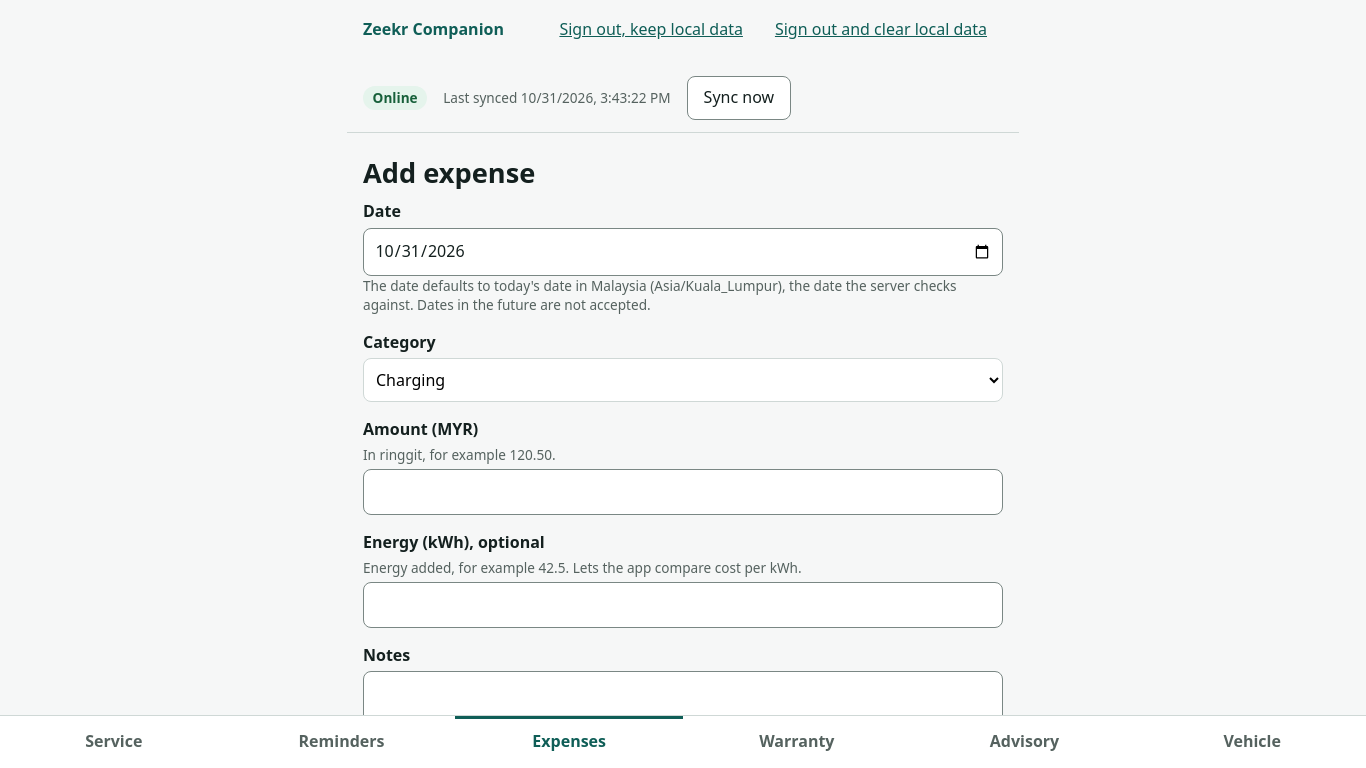
Test: AC-30 / AC-32 / AC-38: create and edit › defaults the date to the Malaysia date, parses RM input to sen and sends one POST
Expected: the date field labelled "Date" holds "2026-10-31", [363,228,1003,276]
Select "Insurance" in the dropdown labelled "Category" at (683, 380), box [363,358,1003,402]
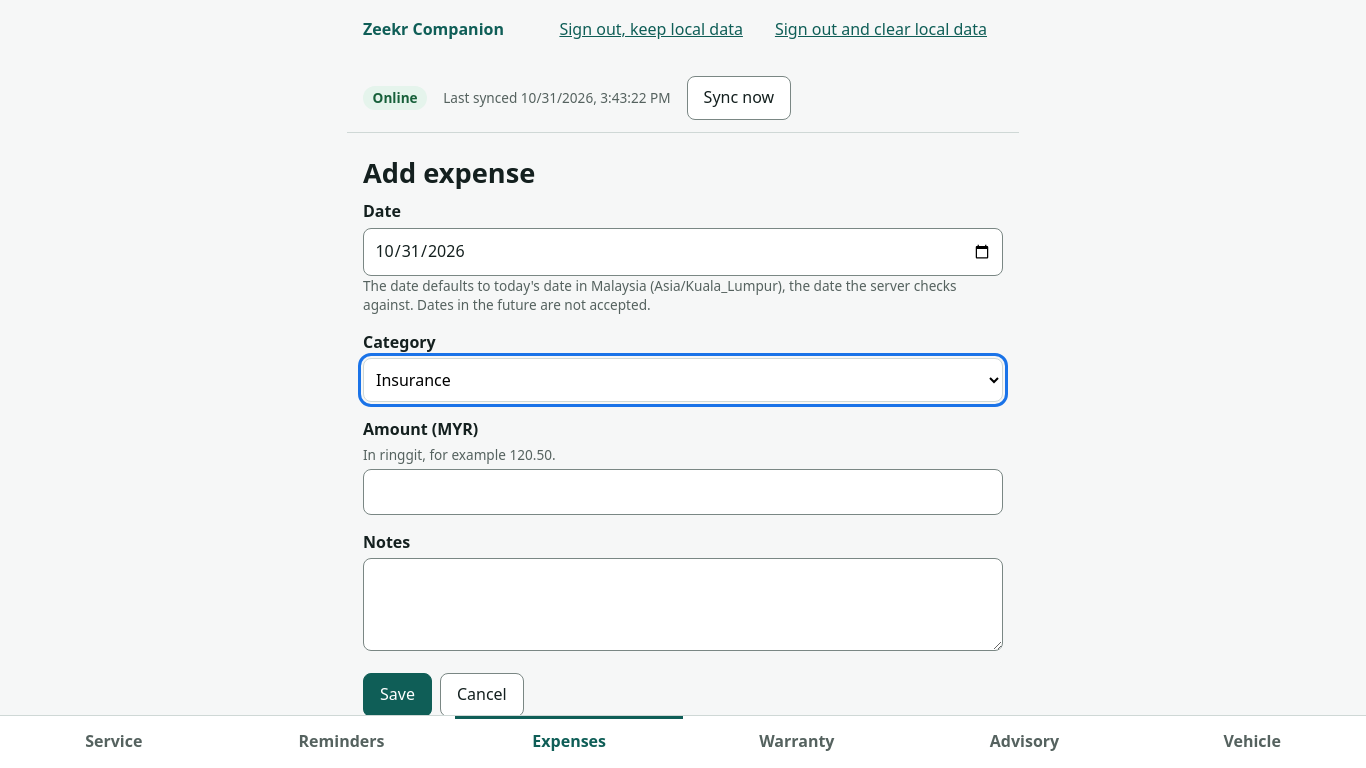
Type "RM 1,234.50" into the field labelled "Amount (MYR)" at (683, 492), box [363,469,1003,515]
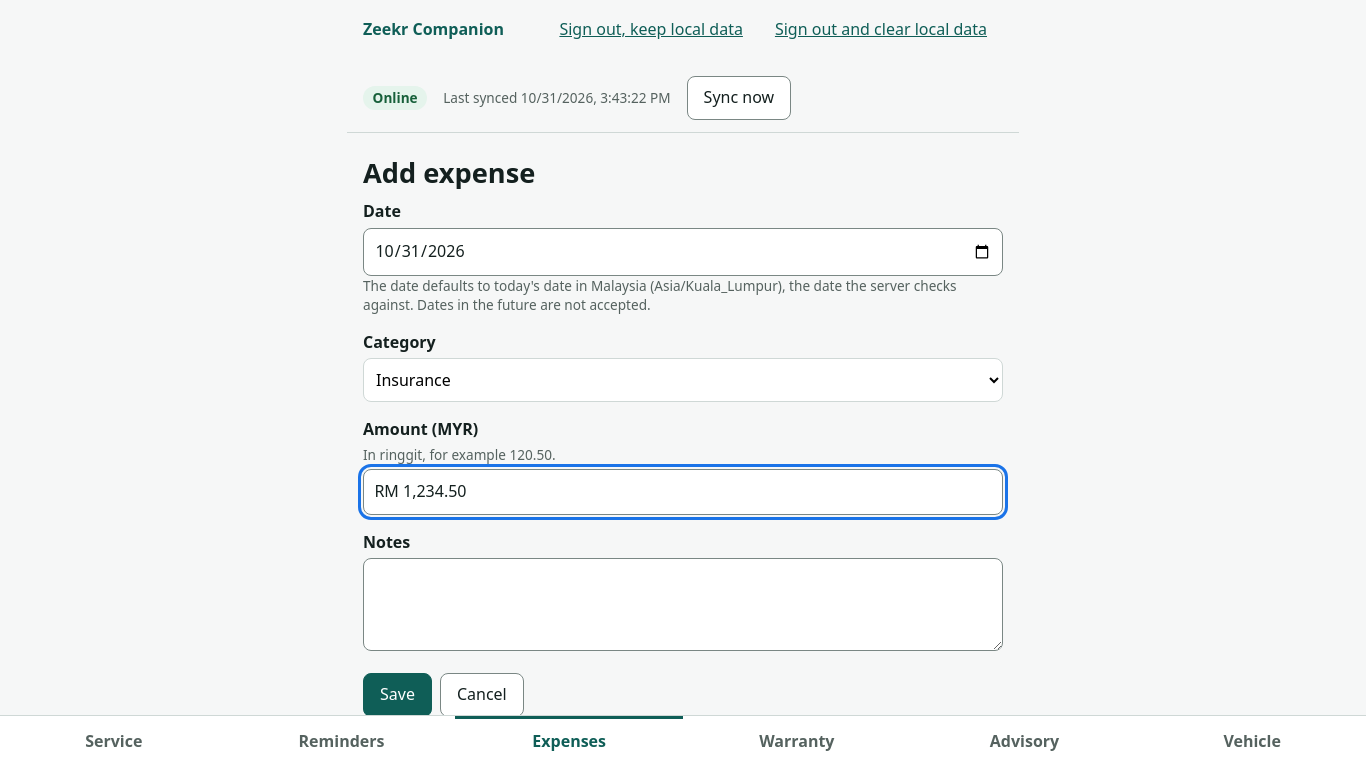
Click the text box labelled "Notes" at (683, 604), box [363,558,1003,650]
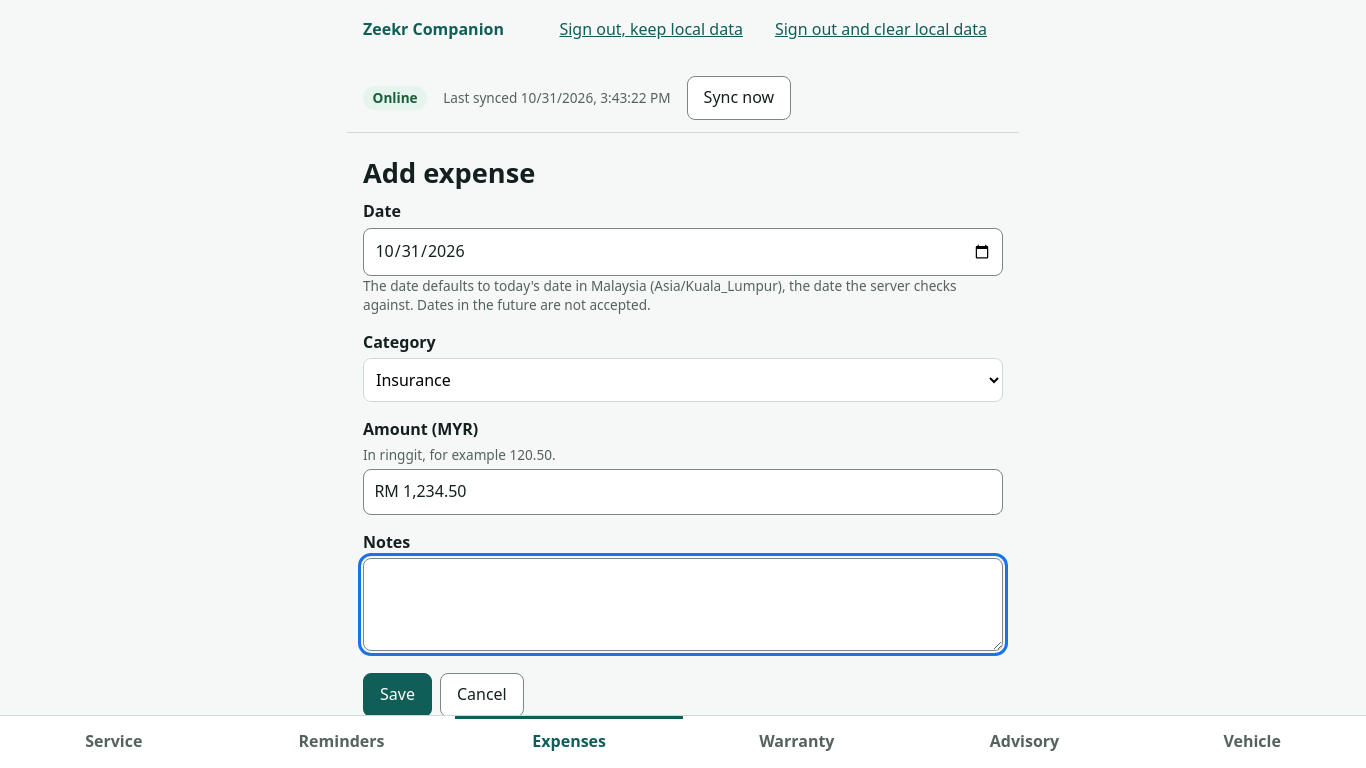
Type keys "  Annual premium  "
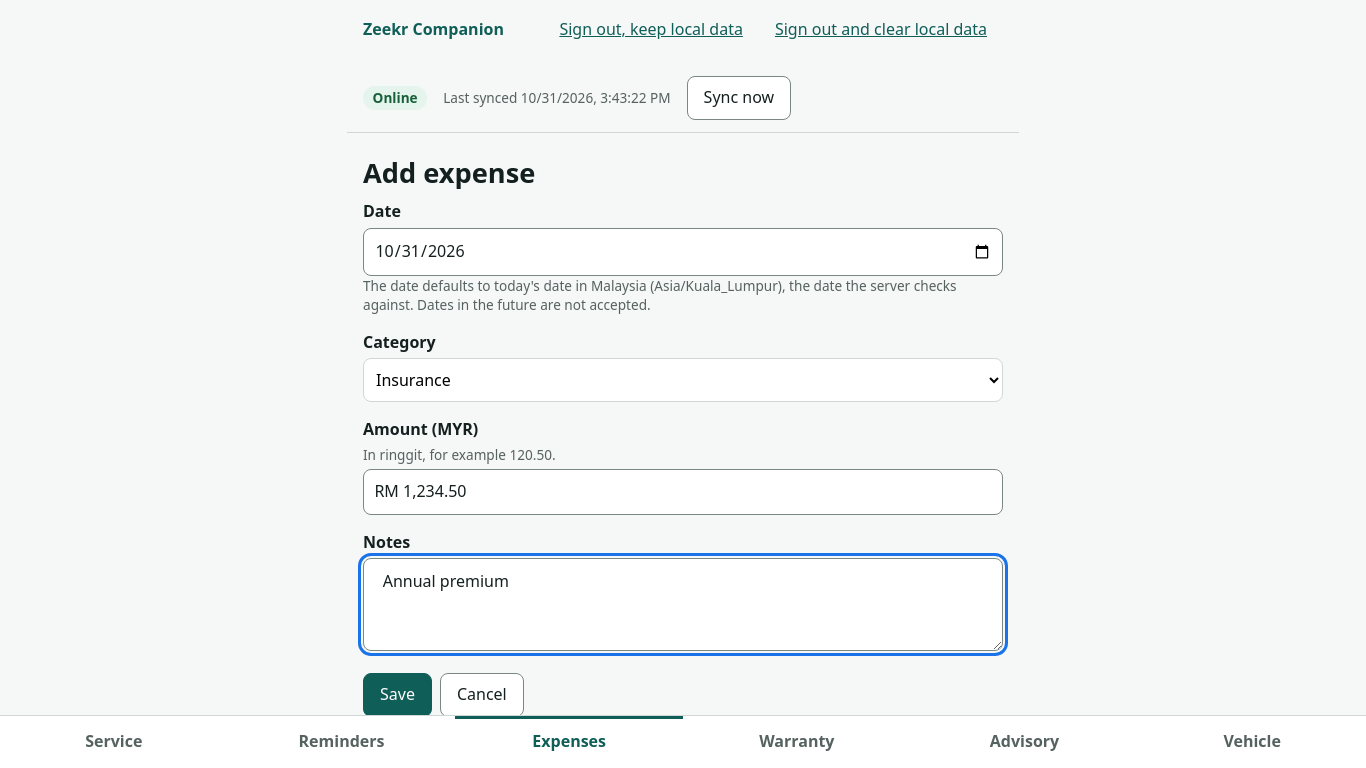
Click the button "Save" at (397, 695), box [363,673,432,717]
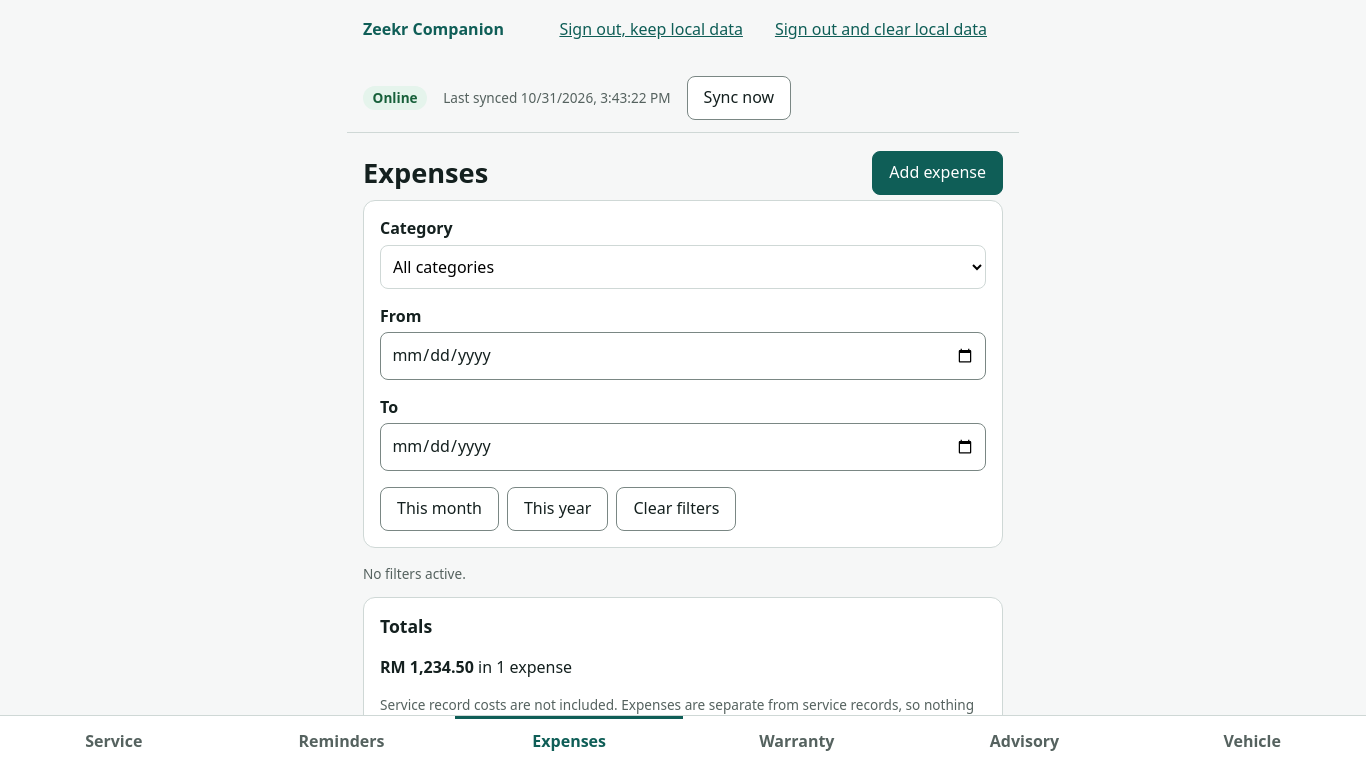
Expected: the text "RM 1,234.50" is shown, [380,656,474,678]
